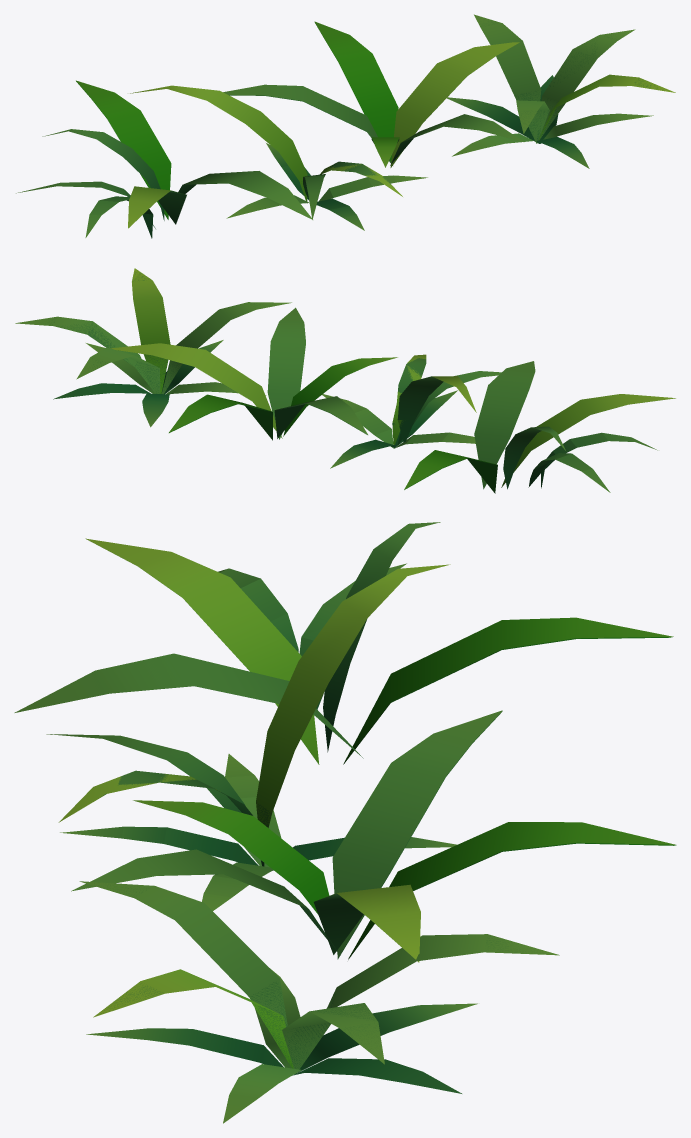
Rendered from plant_A_003.FBX.
3 views of the same model, one above another, from view 1: azimuth 30°, elevation 25°; view 2: azimuth 150°, elevation 25°; view 3: azimuth 270°, elevation 25° (orthographic). The views are drawn at different scales.
Visible parts, largest first — view 1: plant_A_003; view 2: plant_A_003; view 3: plant_A_003.
Boxes of the visible parts, <box> form: plant_A_003: <box>16,14,675,238</box>; plant_A_003: <box>15,268,675,493</box>; plant_A_003: <box>14,522,676,1123</box>.
Bounding box in the file's own units: 74.4 × 13.58 × 38.98.
